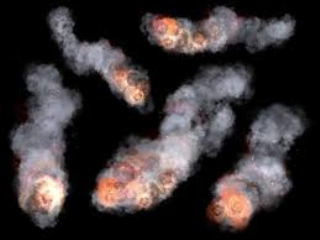smoke: (81, 67, 251, 212), (204, 102, 314, 225), (12, 67, 79, 211), (51, 14, 142, 106), (137, 9, 298, 55)
